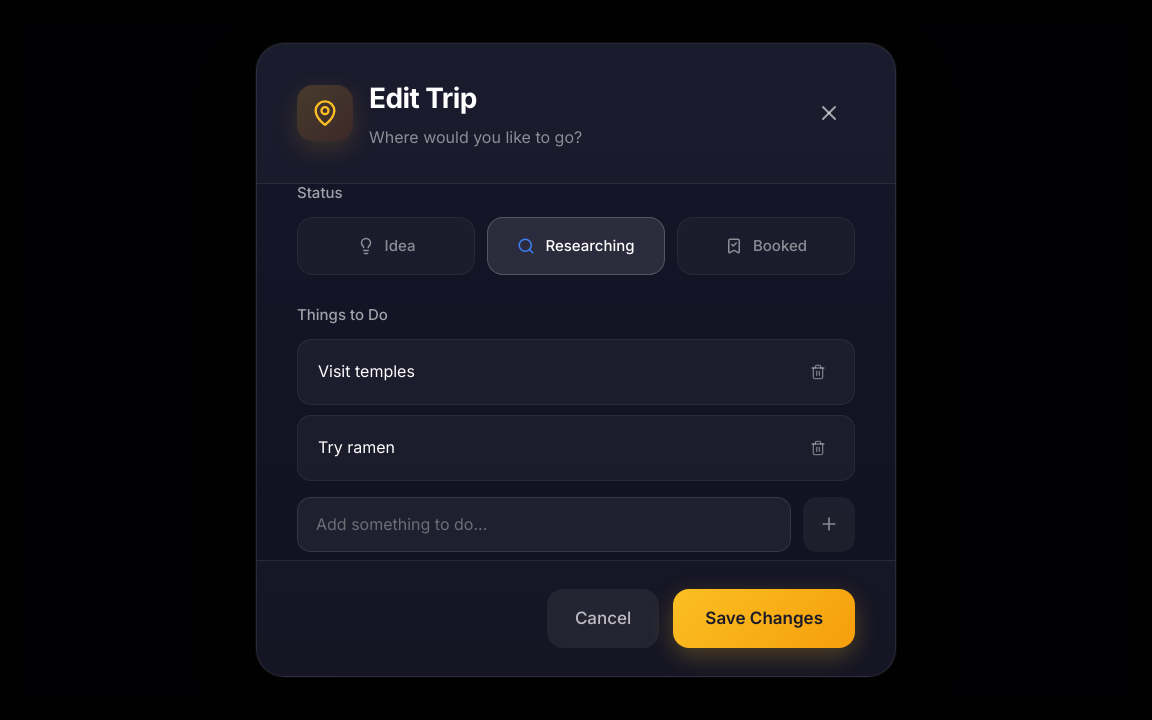
Test case: PlannedTripModal component › should allow removing things to do
(page scrolled)
Expected: the text "Visit temples" is shown, [318, 361, 415, 381]
Step 1. Click the button without text in the row of "Visit temples" → {"x": 818, "y": 372}, box [802, 356, 834, 388]
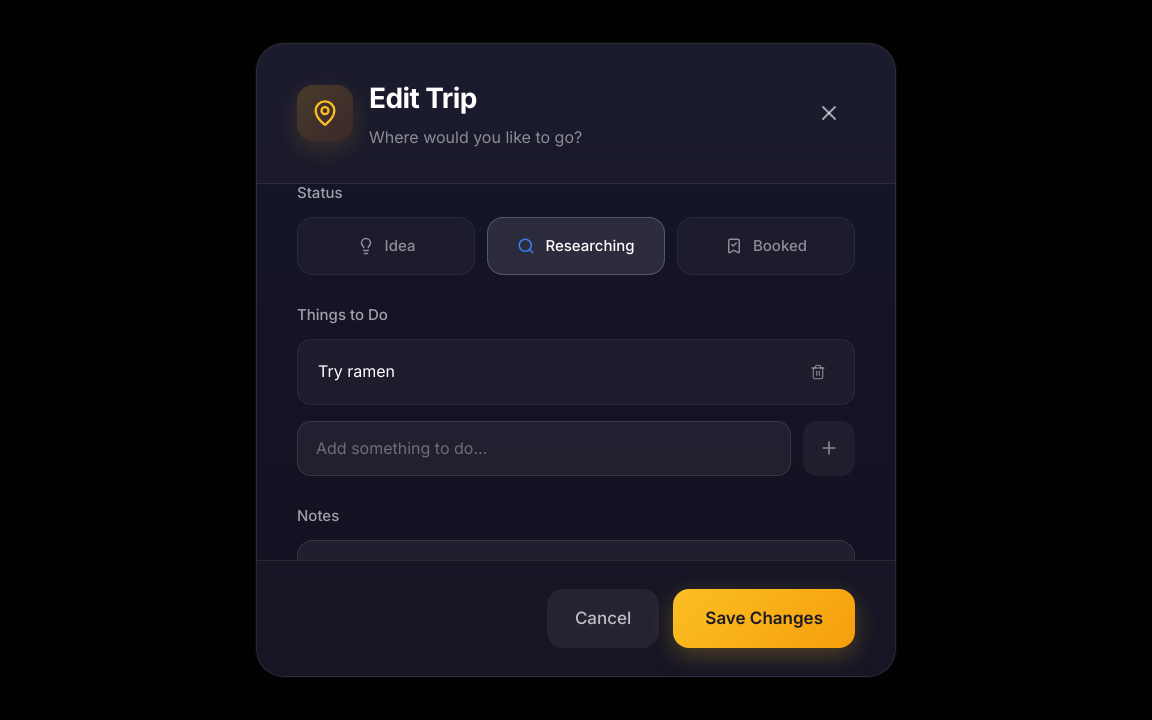
Now the text "Visit temples" is gone
